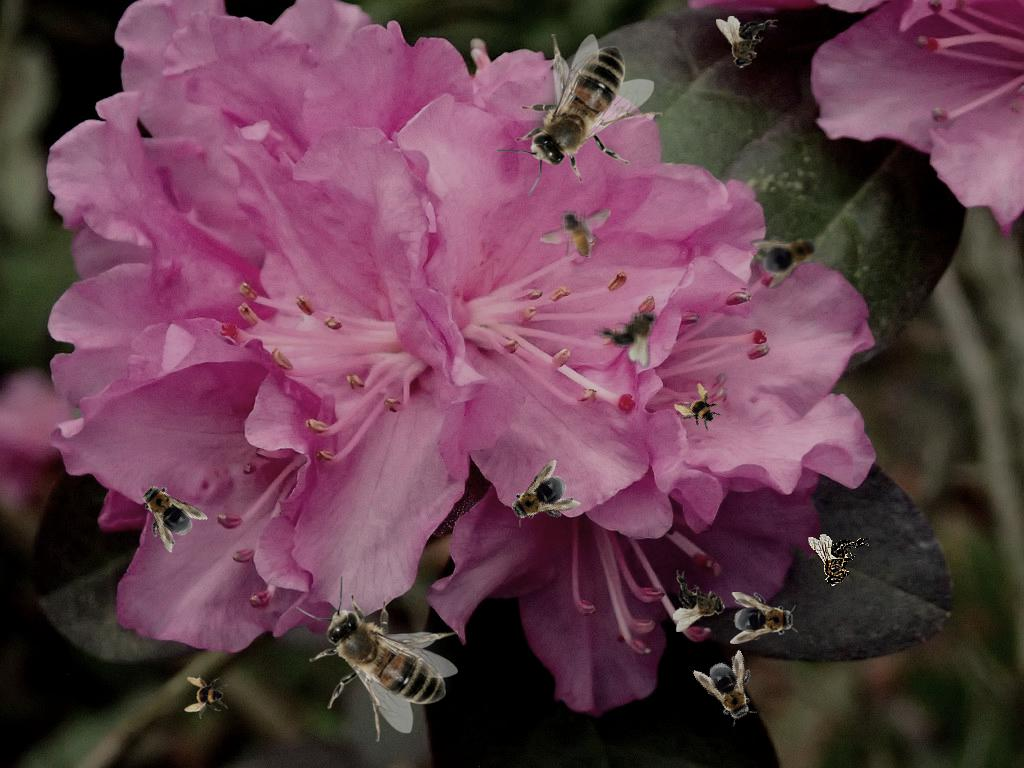Bee: (296, 575, 458, 742), (496, 34, 663, 196), (123, 469, 209, 555), (497, 458, 583, 540), (692, 647, 770, 733), (592, 291, 675, 371), (747, 216, 831, 292), (667, 378, 731, 442), (540, 208, 611, 258), (730, 592, 798, 644), (808, 534, 870, 587), (716, 16, 778, 69), (673, 570, 726, 632), (184, 675, 228, 719)
